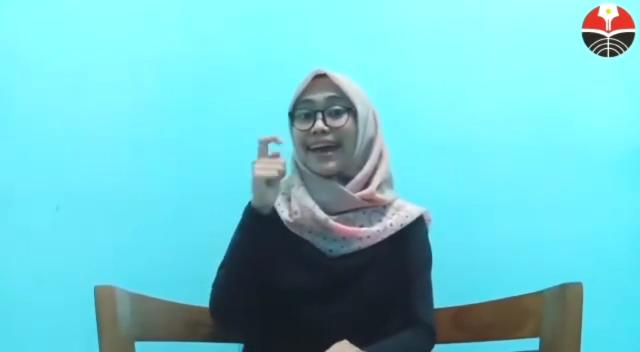X: (252, 134, 290, 208)
